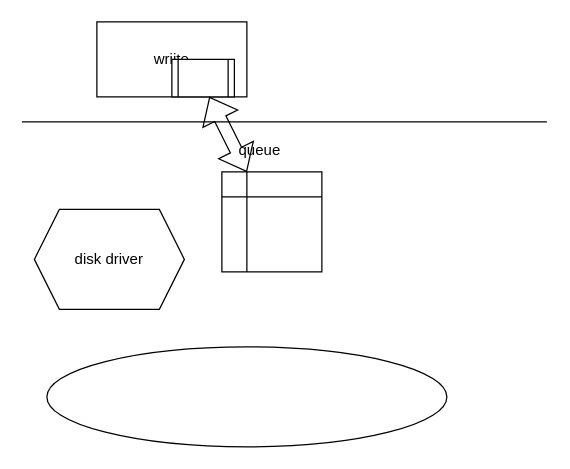
Some shapes in this 570 by 469 pixel diagram are drawn without their labels. Here are the shapes that lost their labels. From the top down, the box of each, then its label:
(171, 58, 234, 97): buffer
(46, 346, 447, 447): disk
